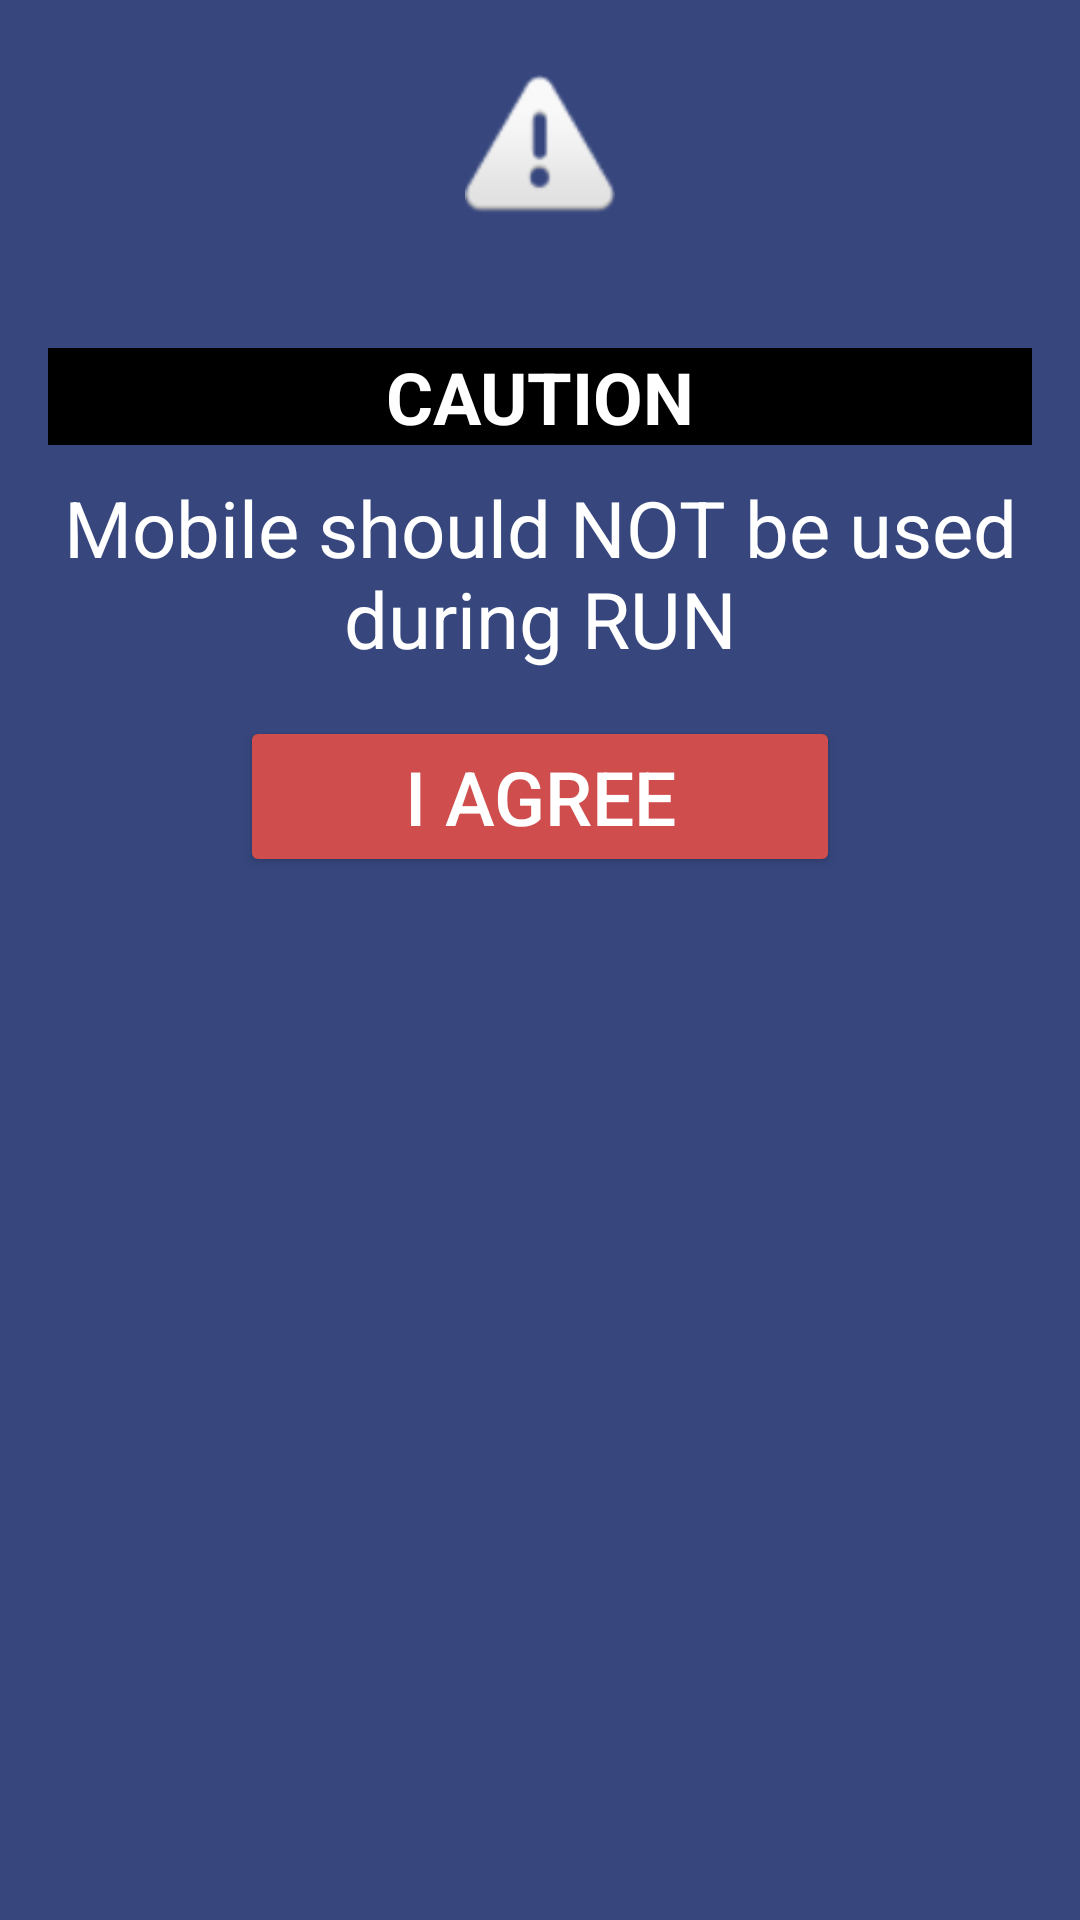

Where to tap for icons on this 1080 × 1920 app screen, as (x,y):
alert: (540,143)
